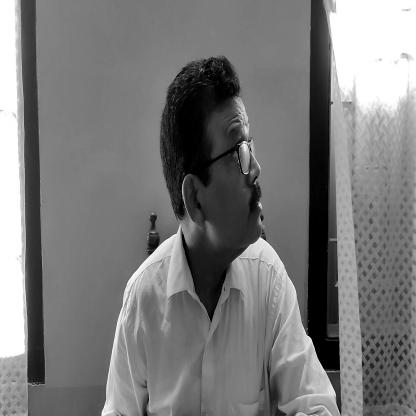Distracted: (157, 63, 273, 260)
